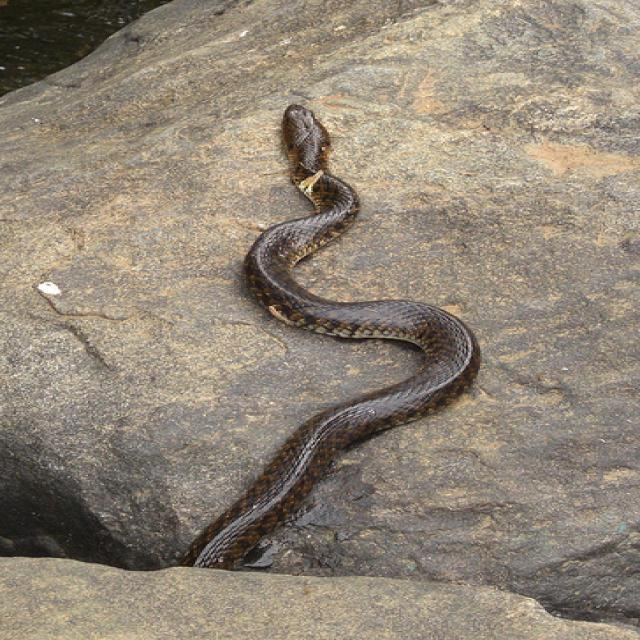Snake: (173, 91, 487, 576)
